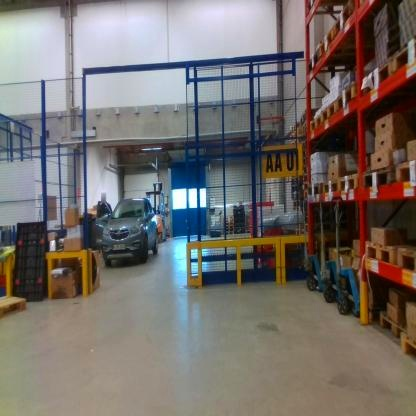pallets: (299, 159, 414, 201), (352, 41, 415, 104), (357, 298, 416, 362), (306, 0, 354, 74), (304, 83, 359, 134), (354, 238, 416, 275), (0, 293, 36, 319)
